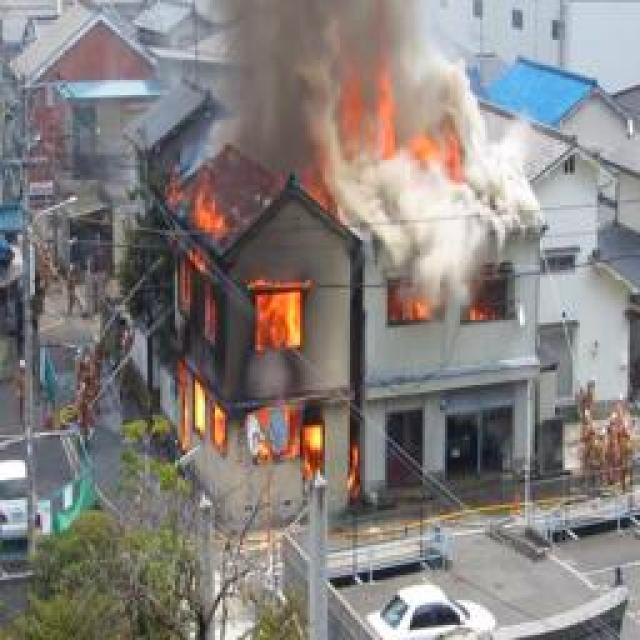Fire: (165, 172, 326, 490), (332, 97, 459, 167), (390, 304, 440, 326)
